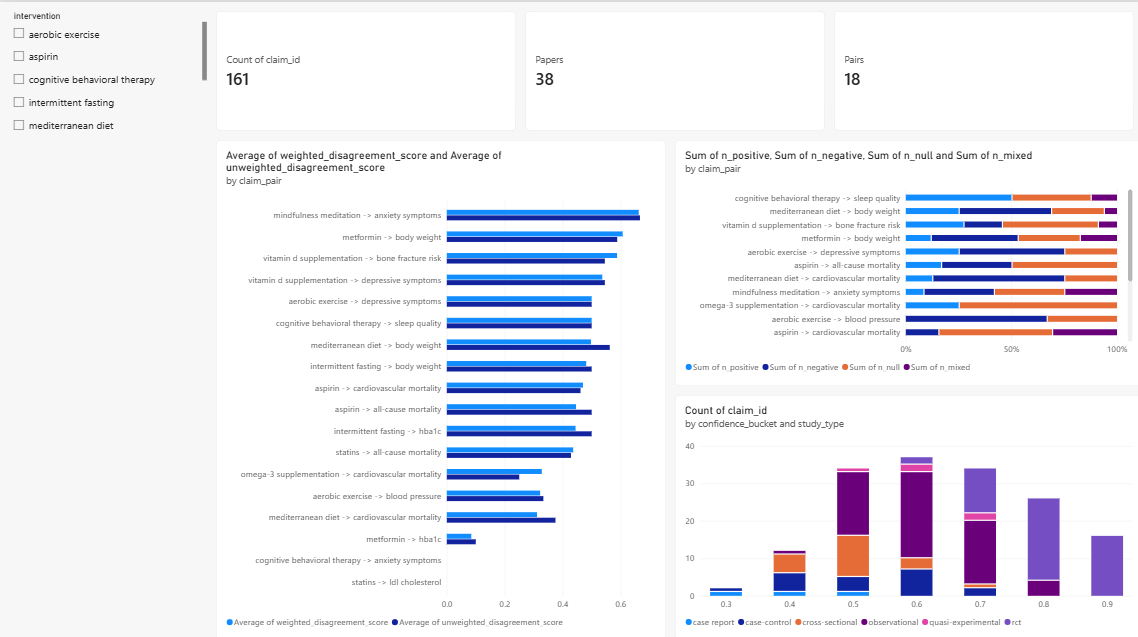

This screenshot's page, from the dashboard's own definition file:
{"tool":"powerbi","page":{"name":"Page 1","canvas":[1920,1080],"ordinal":0},"visuals":[{"type":"cardVisual","fields":{"Data":["CountNonNull(fct_claims.claim_id)"]},"box":[360,15,500,200],"z":0},{"type":"cardVisual","fields":{"Data":["fct_claims.Papers"]},"box":[875,15,500,200],"z":1},{"type":"cardVisual","fields":{"Data":["fct_claims.Pairs"]},"box":[1390,15,500,200],"z":2},{"type":"slicer","fields":{"Values":["gold_weighted_disagreement.intervention"]},"box":[15,15,330,210],"z":3},{"type":"clusteredBarChart","fields":{"Category":["gold_weighted_disagreement.claim_pair"],"Y":["Avg(gold_weighted_disagreement.weighted_disagreement_score)","Avg(gold_weighted_disagreement.unweighted_disagreement_score)"]},"box":[360,230,750,835],"z":4},{"type":"hundredPercentStackedBarChart","fields":{"Category":["gold_claims_by_intervention_outcome.claim_pair"],"Y":["Sum(gold_claims_by_intervention_outcome.n_positive)","Sum(gold_claims_by_intervention_outcome.n_negative)","Sum(gold_claims_by_intervention_outcome.n_null)","Sum(gold_claims_by_intervention_outcome.n_mixed)"]},"box":[1125,230,780,410],"z":5},{"type":"columnChart","fields":{"Category":["fct_claims.confidence_bucket"],"Series":["fct_claims.study_type"],"Y":["CountNonNull(fct_claims.claim_id)"]},"box":[1125,655,780,410],"z":6}]}

Visuals, with their boxes in screenshot pixels (x1, y1, x2, y2), scaled from the page's 1920x1080 canvas onto the 1138x637 screenshot:
cardVisual - CountNonNull(fct_claims.claim_id): (213, 9, 510, 127)
cardVisual - fct_claims.Papers: (519, 9, 815, 127)
cardVisual - fct_claims.Pairs: (824, 9, 1120, 127)
slicer - gold_weighted_disagreement.intervention: (9, 9, 204, 133)
clusteredBarChart - gold_weighted_disagreement.claim_pair x Avg(gold_weighted_disagreement.weighted_disagreement_score): (213, 136, 658, 628)
hundredPercentStackedBarChart - gold_claims_by_intervention_outcome.claim_pair x Sum(gold_claims_by_intervention_outcome.n_positive): (667, 136, 1129, 377)
columnChart - fct_claims.confidence_bucket x fct_claims.study_type: (667, 386, 1129, 628)
